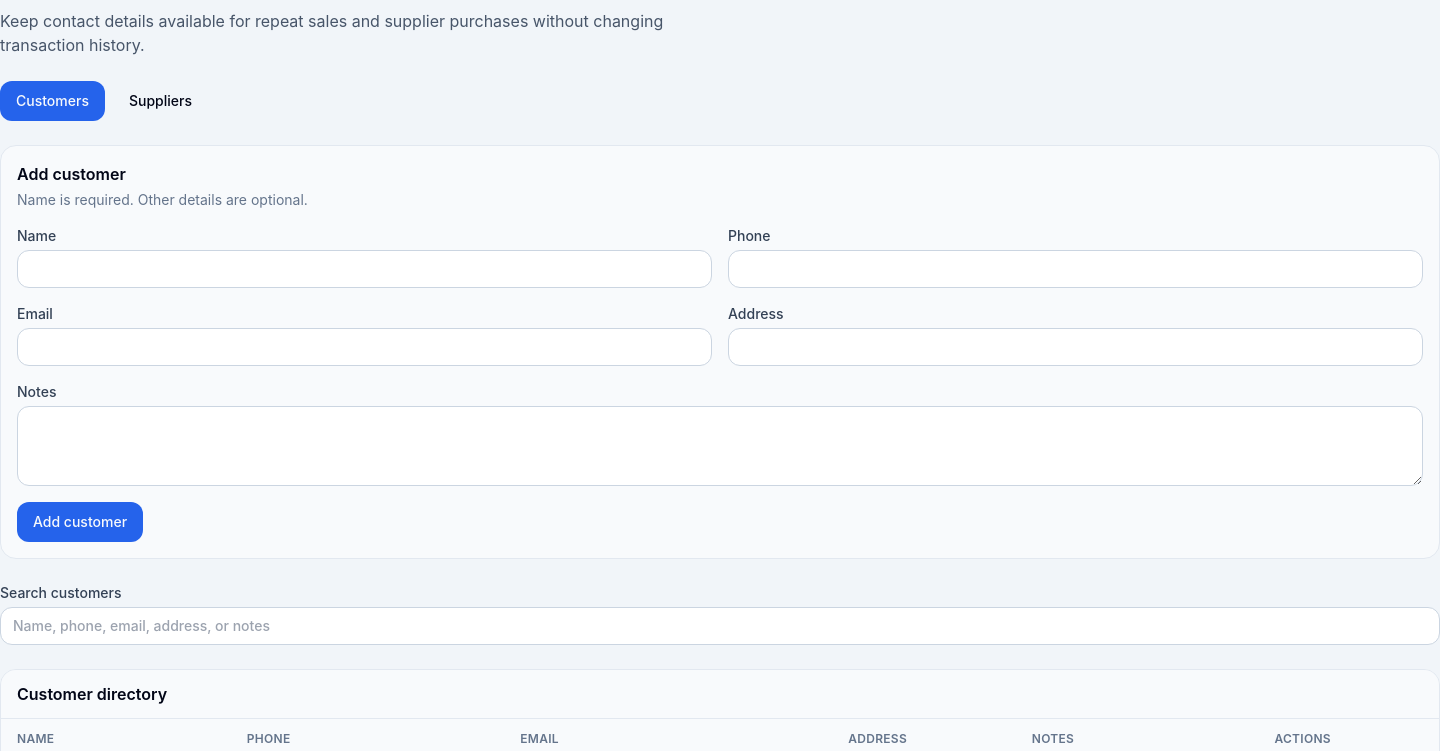
ContactsScreen › renders customers and switches to suppliers
Click the button "Suppliers" at coordinates (160, 101), box [113,81,208,121]
(page scrolled)
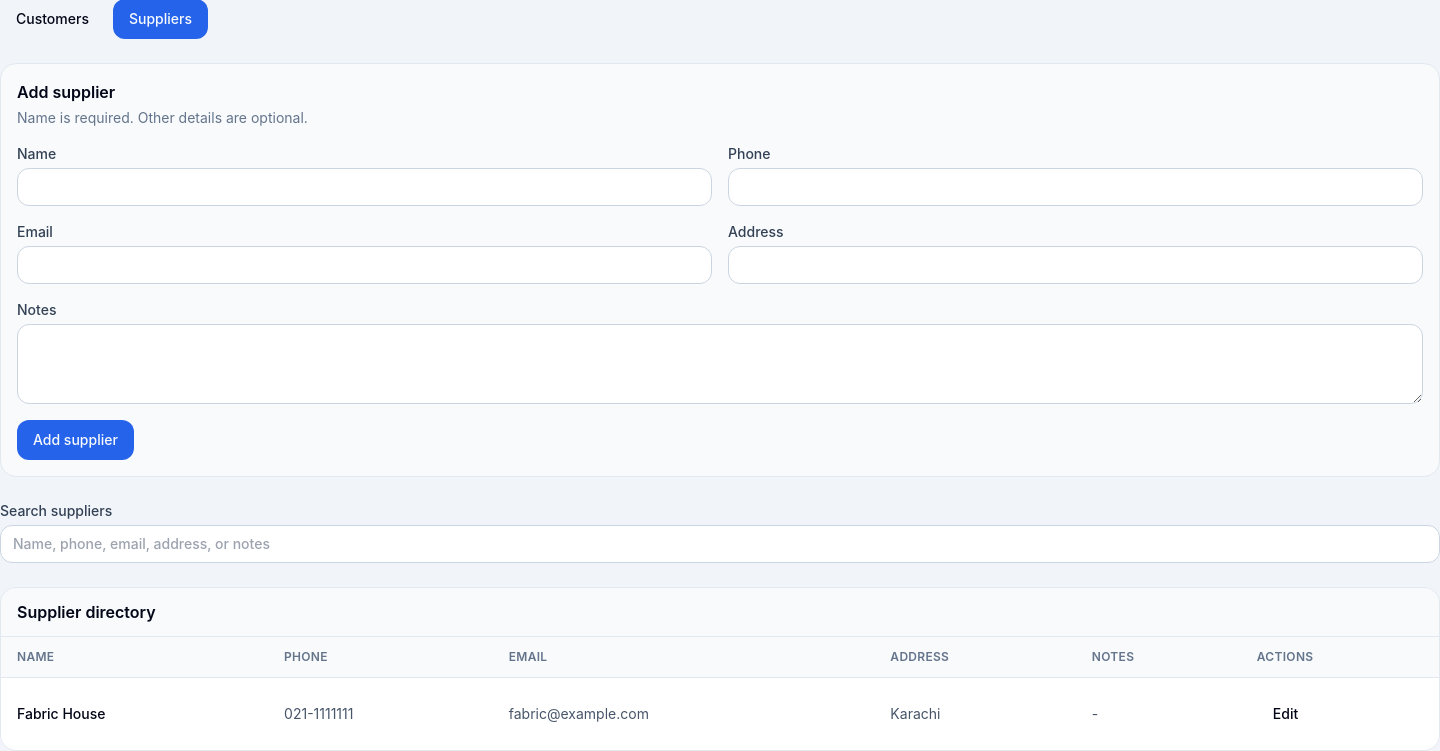
Result: the text "Fabric House" is shown at [1,678,268,750]
